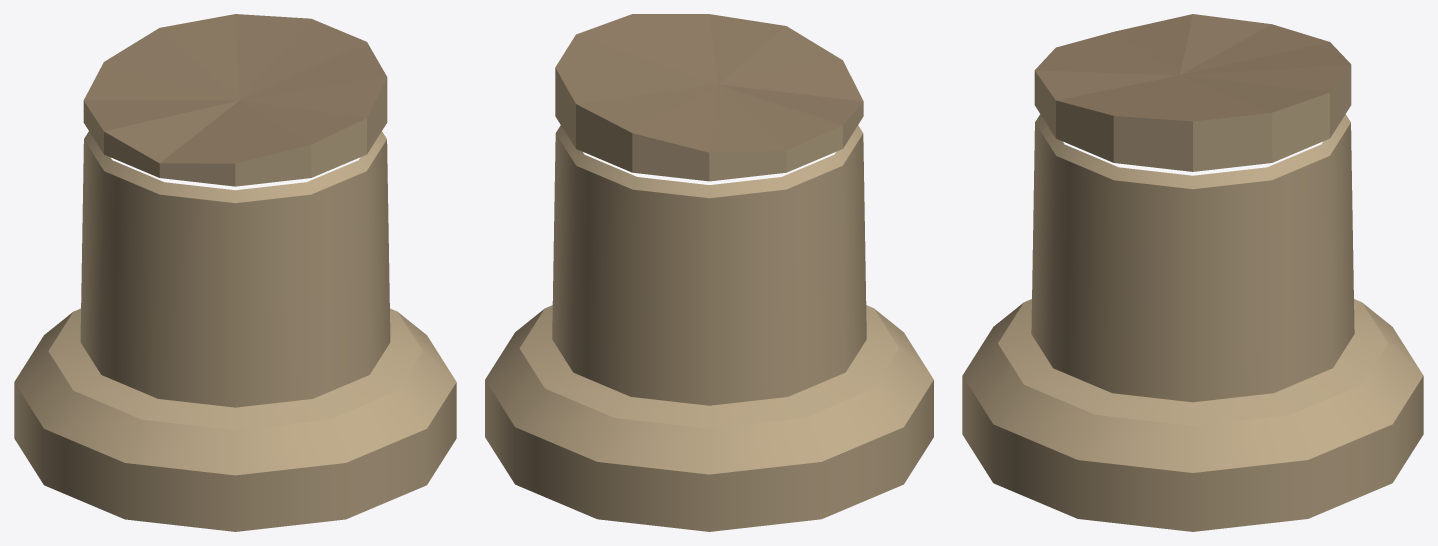
File: column_stump.glb
3 views of the same model, side by side, from view 1: azimuth 30°, elevation 25°; view 2: azimuth 150°, elevation 25°; view 3: azimuth 270°, elevation 25° (orthographic). The views are drawn at different scales.
Parts seen in each view (by area): view 1: column_stump; view 2: column_stump; view 3: column_stump.
Part boxes in pixels (box(x1,y1,x2,y2)): column_stump: box(14, 14, 456, 531); column_stump: box(485, 14, 933, 531); column_stump: box(962, 14, 1423, 531).
Size of the model in its own units: 1.56 by 1.42 by 1.56.
